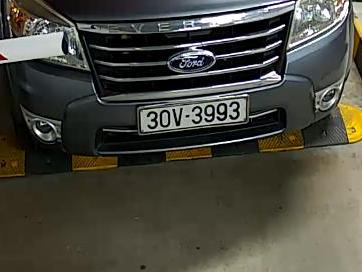number: (139, 97, 249, 136)
